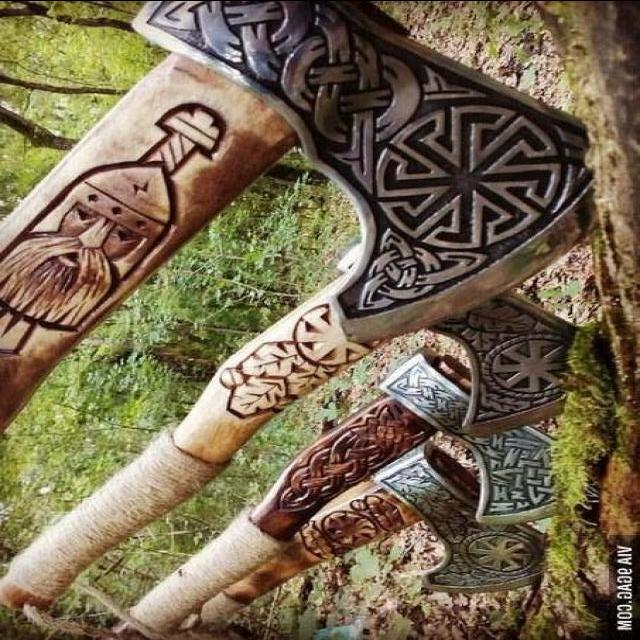axe: (1, 1, 589, 429), (1, 279, 588, 615), (123, 353, 567, 640), (178, 448, 548, 640)
